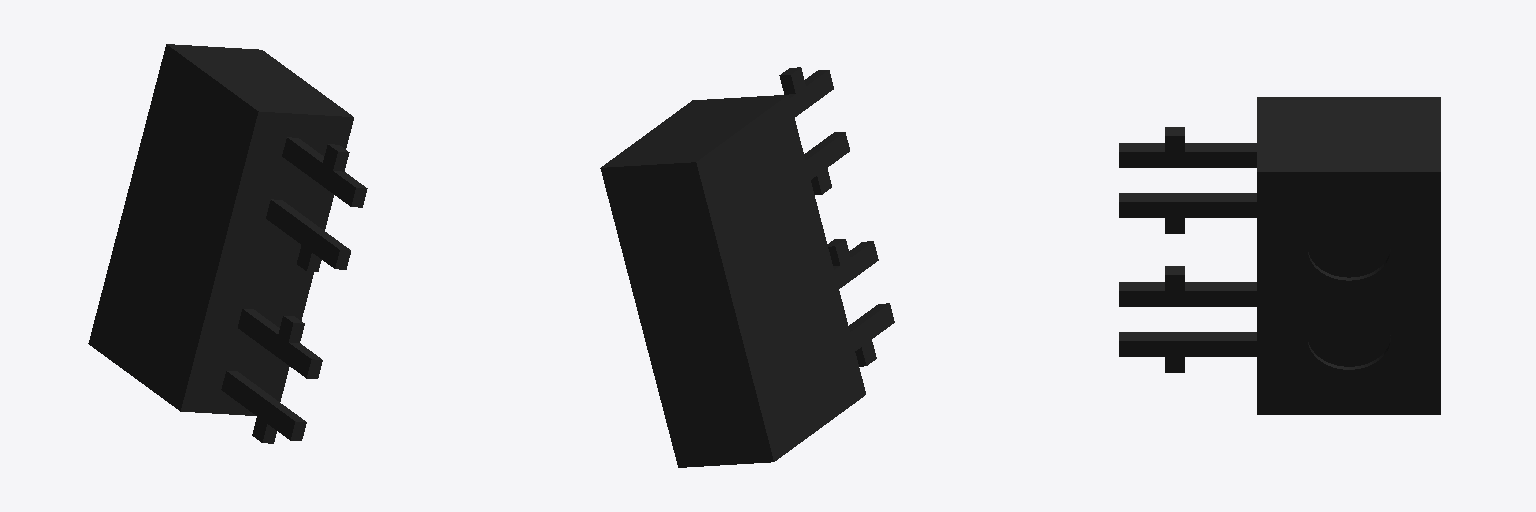
The model's file is IRIDIAepuck3D_Nov2019_Proximity7.obj.
3 views of the same model, side by side, from view 1: azimuth 30°, elevation 25°; view 2: azimuth 150°, elevation 25°; view 3: azimuth 270°, elevation 25° (orthographic).
Visible parts, largest first — view 1: brep_88; view 2: brep_88; view 3: brep_88.
Boxes of the visible parts, <box> form: brep_88: <box>88,44,367,443</box>; brep_88: <box>600,67,894,467</box>; brep_88: <box>1119,97,1440,414</box>.
Bounding box in the file's own units: 0.0044 × 0.0074 × 0.007.